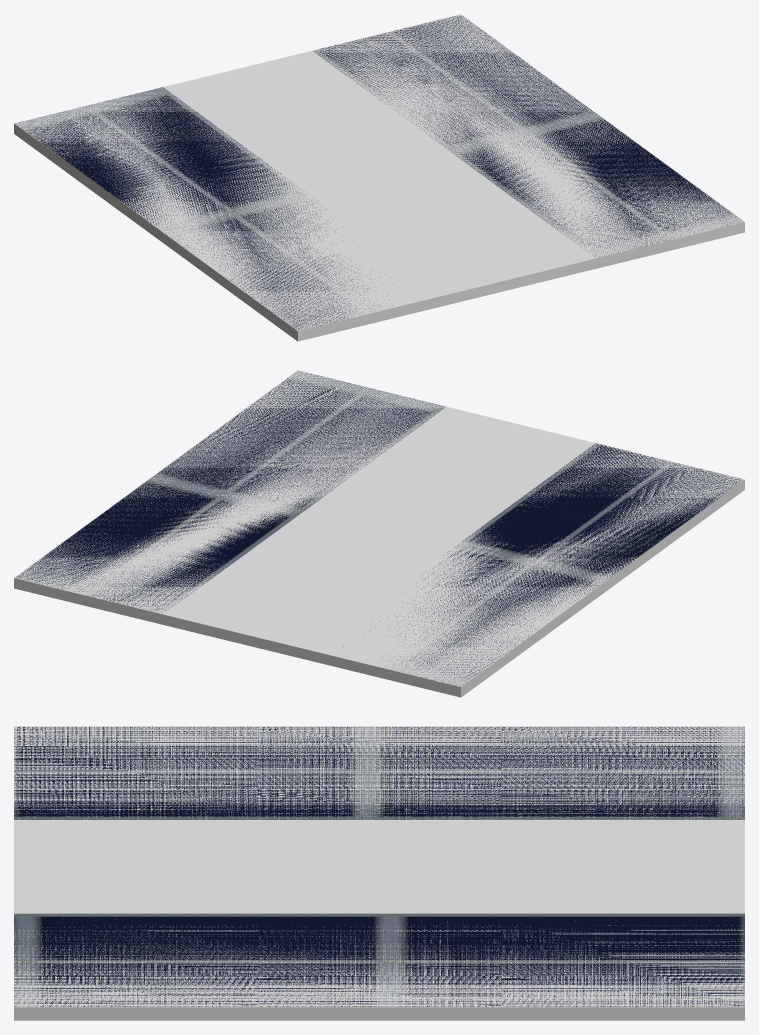
File: solar-wing.glb
3 renders of one model, top to bottom at view 1: azimuth 30°, elevation 25°; view 2: azimuth 150°, elevation 25°; view 3: azimuth 270°, elevation 25°, orthographic. The views are drawn at different scales.
Visible parts, largest first — view 1: COL_solar-wing, solar-wing; view 2: COL_solar-wing, solar-wing; view 3: COL_solar-wing, solar-wing.
Boxes of the visible parts, <box> form: COL_solar-wing: <box>14,14,744,341</box>; solar-wing: <box>14,14,744,341</box>; COL_solar-wing: <box>14,370,744,697</box>; solar-wing: <box>14,370,744,696</box>; COL_solar-wing: <box>14,726,744,1020</box>; solar-wing: <box>14,726,744,1020</box>.
Bounding box in the file's own units: 4.5 × 0.1 × 4.95.
2 materials, 1 textured.
